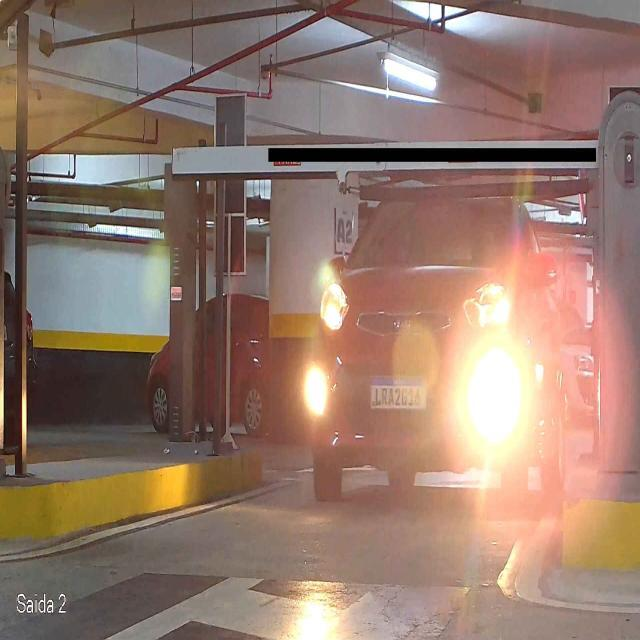mercosul_plate: (368, 376, 428, 411)
